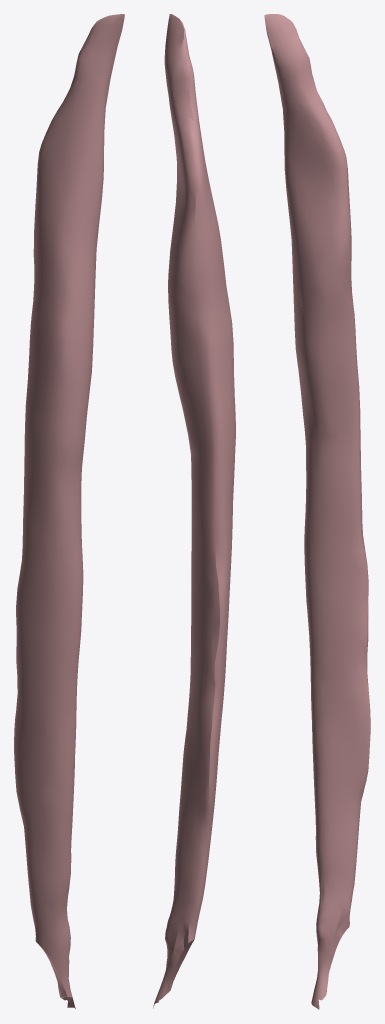
The model's file is fma298014_mm1717m.glb.
3 renders of one model, left to right at view 1: azimuth 90°, elevation 25°; view 2: azimuth 210°, elevation 25°; view 3: azimuth 270°, elevation 25°, orthographic. The views are drawn at different scales.
Parts seen in each view (by area): view 1: FMA298014_MM1717M; view 2: FMA298014_MM1717M; view 3: FMA298014_MM1717M.
Part boxes in pixels (bbox=[...]): FMA298014_MM1717M: bbox=[14, 14, 124, 1008]; FMA298014_MM1717M: bbox=[153, 14, 235, 1008]; FMA298014_MM1717M: bbox=[264, 14, 370, 1009].
Bounding box in the file's own units: 0.0249 × 0.2988 × 0.0295.
